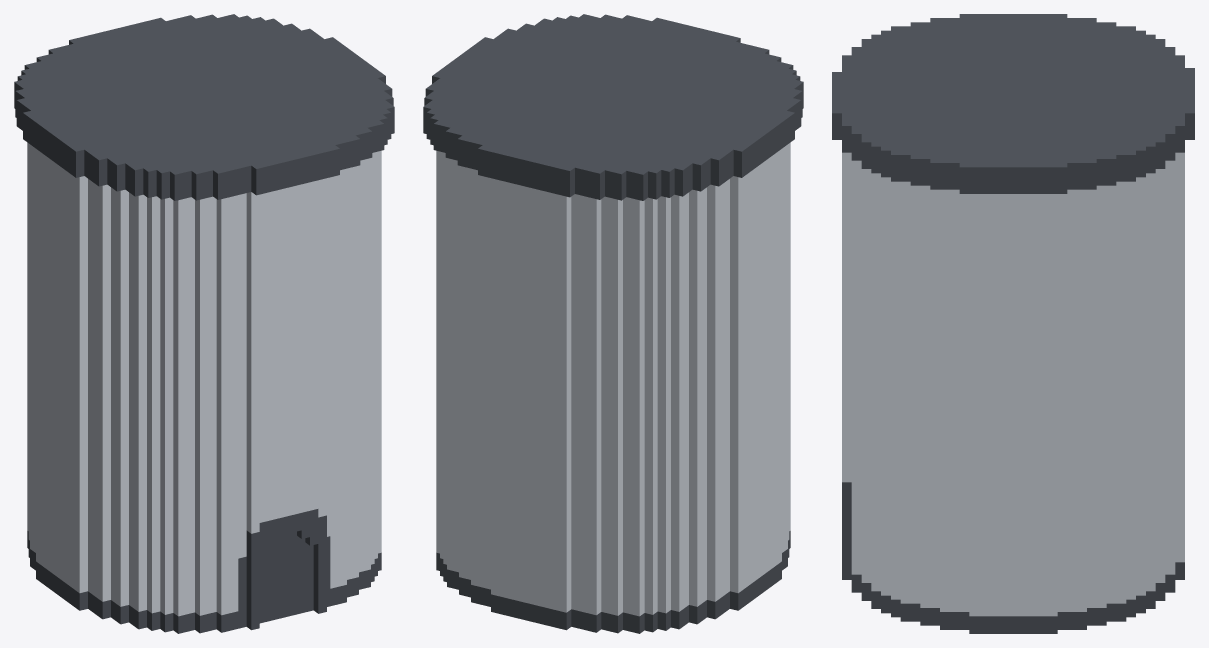
File: bin.obj
3 renders of one model, left to right at view 1: azimuth 30°, elevation 25°; view 2: azimuth 150°, elevation 25°; view 3: azimuth 270°, elevation 25°, orthographic.
Bounding box in the file's own units: 3.7 × 5.3 × 3.7.
Materials: 1 (1 with a texture image).
